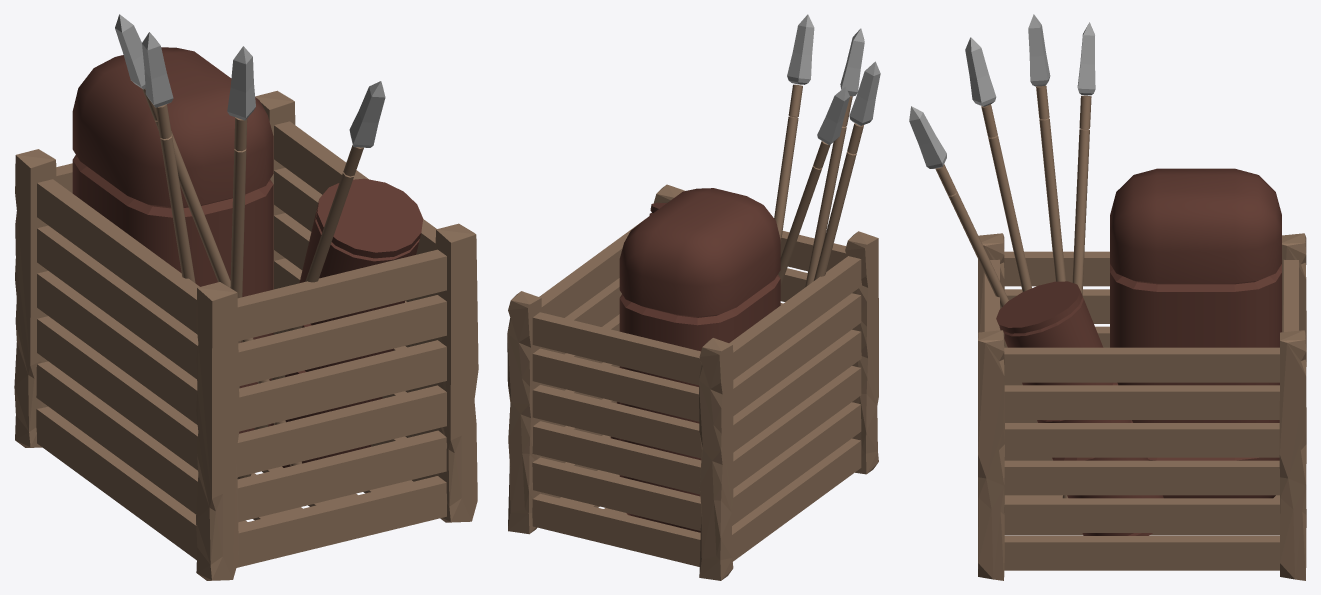
File: SM_ammo_box.fbx
3 views of the same model, side by side, from view 1: azimuth 30°, elevation 25°; view 2: azimuth 150°, elevation 25°; view 3: azimuth 270°, elevation 25° (orthographic). The views are drawn at different scales.
Parts seen in each view (by area): view 1: ammo_box; view 2: ammo_box; view 3: ammo_box.
Part boxes in pixels (bbox=[...]): ammo_box: bbox=[14, 14, 478, 580]; ammo_box: bbox=[507, 14, 880, 580]; ammo_box: bbox=[909, 14, 1306, 580].
Size of the model in its own units: 119 by 204 by 164.
